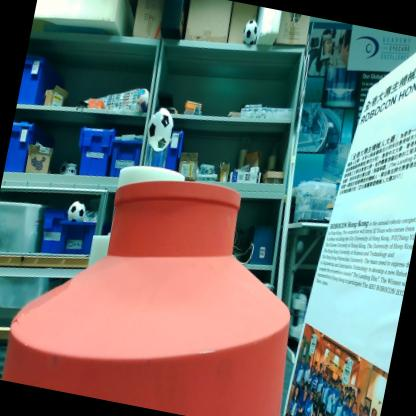ball: (144, 106, 176, 154), (240, 18, 260, 48), (66, 199, 87, 224), (134, 87, 150, 111), (134, 88, 150, 112), (58, 159, 69, 175)
